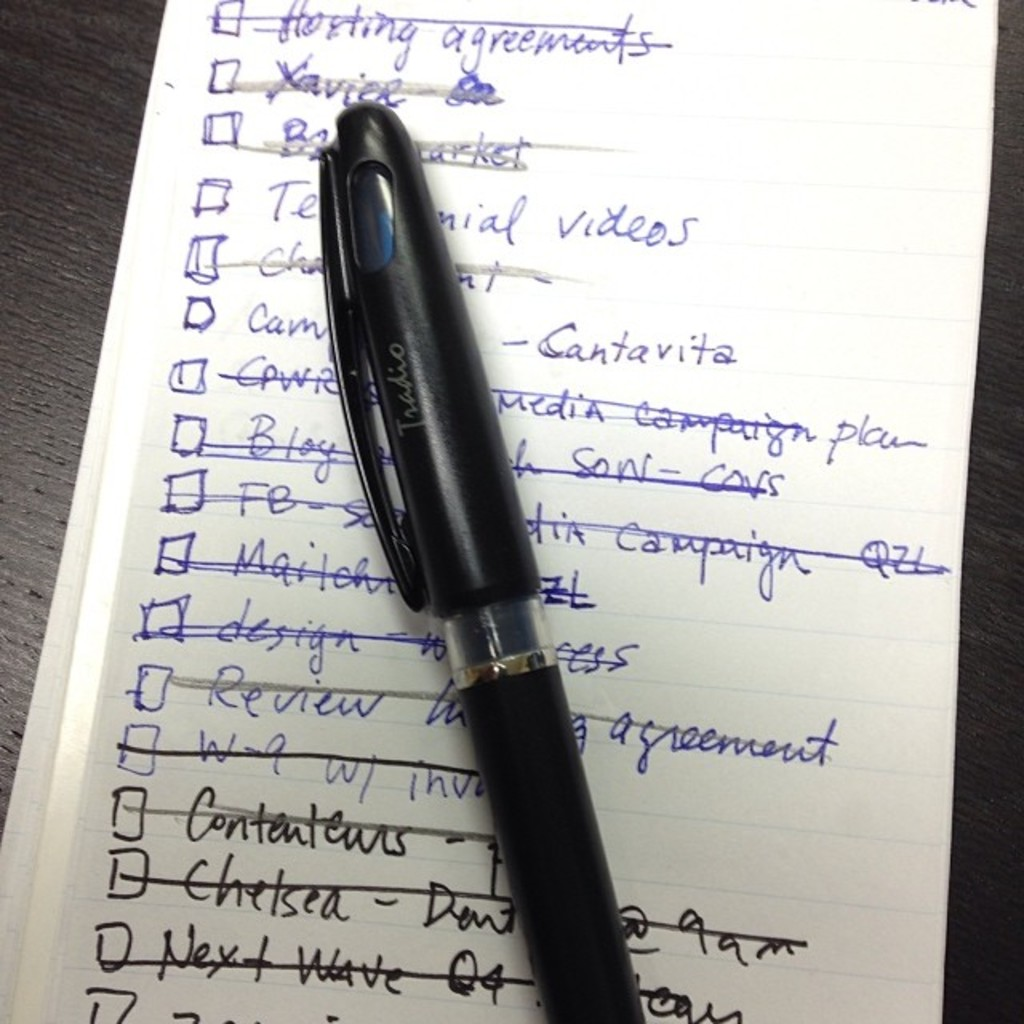Pen: (318, 97, 649, 1022)
